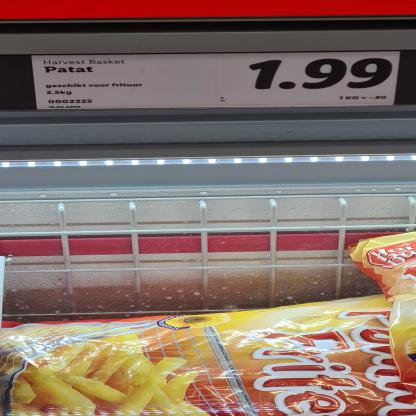prtg: (33, 53, 402, 111)
